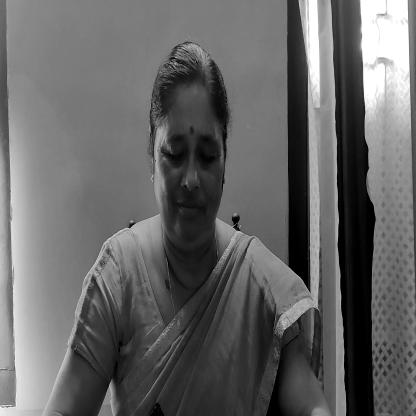Normal: (149, 51, 228, 256)
